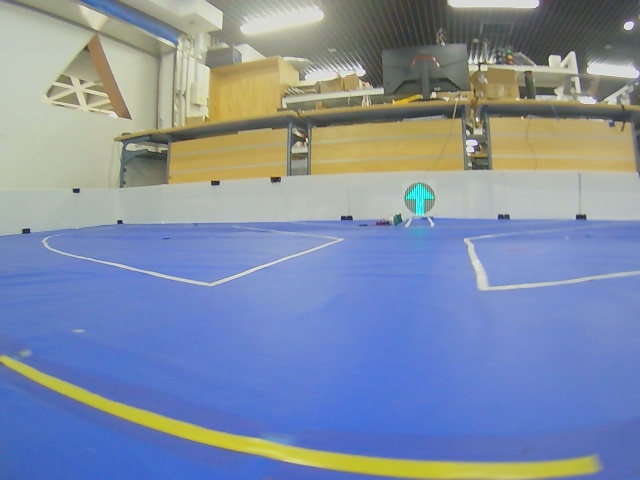straight_green: (404, 183, 435, 216)
